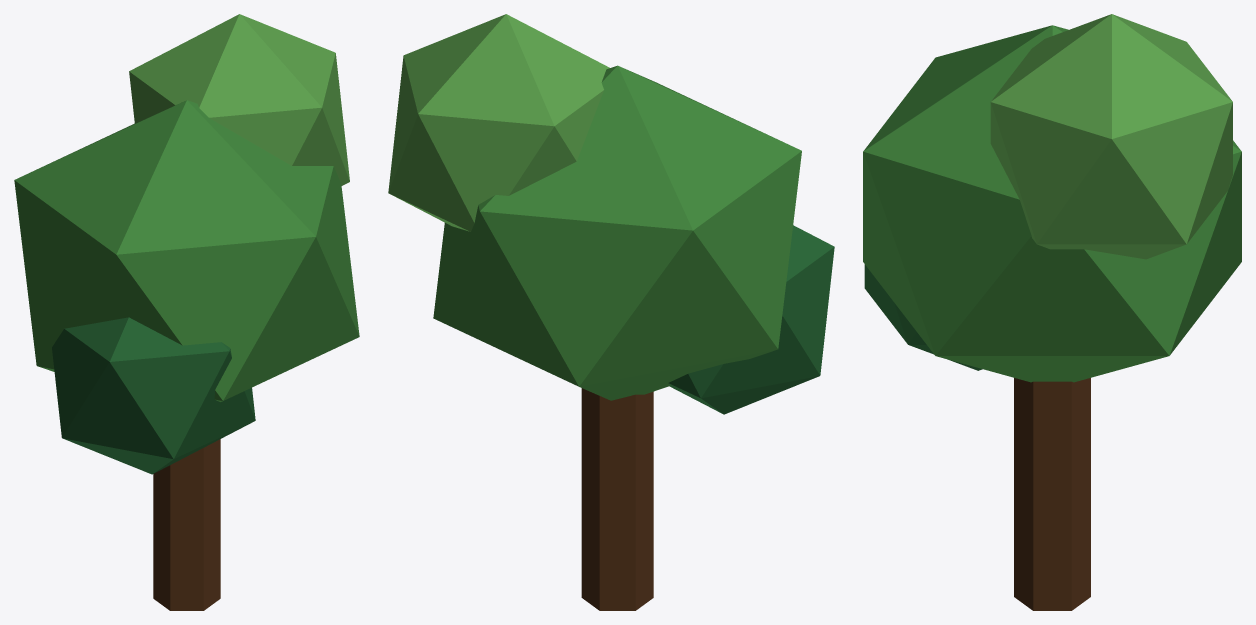
The model's file is drzewo_0.glb.
3 views of the same model, side by side, from view 1: azimuth 30°, elevation 25°; view 2: azimuth 150°, elevation 25°; view 3: azimuth 270°, elevation 25° (orthographic). The views are drawn at different scales.
Parts seen in each view (by area): view 1: drzewo_0; view 2: drzewo_0; view 3: drzewo_0.
Part boxes in pixels (<box>): drzewo_0: <box>14,14,359,610</box>; drzewo_0: <box>388,14,834,610</box>; drzewo_0: <box>863,14,1241,610</box>.
Bounding box in the file's own units: 1.48 × 2.33 × 1.28.
